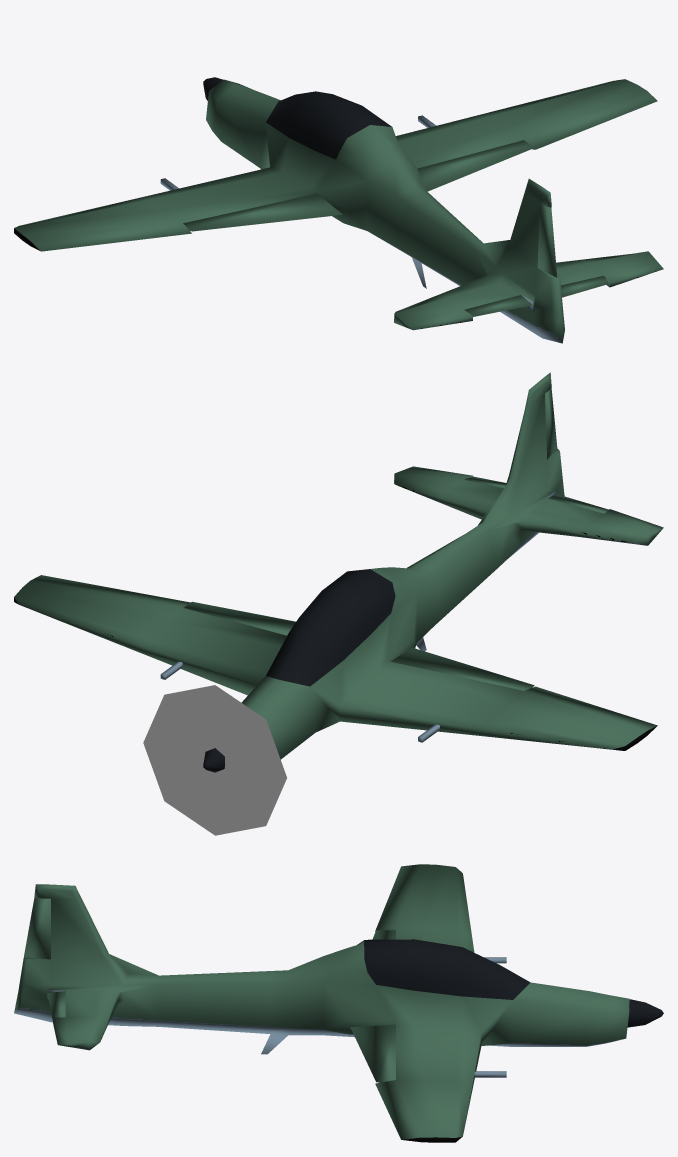
3 renders of one model, top to bottom at view 1: azimuth 30°, elevation 25°; view 2: azimuth 150°, elevation 25°; view 3: azimuth 270°, elevation 25°, orthographic. The views are drawn at different scales.
Parts seen in each view (by area): view 1: Body, FlapL, FlapR, Rudder, ElevatorL, ElevatorR; view 2: Body, Speen2, FlapL, FlapR; view 3: Body, FlapR, Rudder, Speen, ElevatorR.
Part boxes in pixels (x1,y1,x2,y2): Body: (14,79,663,343); FlapL: (183,193,342,231); FlapR: (417,140,534,191); Rudder: (537,202,557,277); ElevatorL: (465,295,532,316); ElevatorR: (561,275,609,297); Body: (14,372,663,759); Speen2: (143,685,286,835); FlapL: (390,647,534,690); FlapR: (184,601,295,635); Body: (14,864,629,1142); FlapR: (350,1024,395,1082); Rudder: (24,897,50,959); Speen: (627,999,663,1027); ElevatorR: (47,991,65,1017).
Size of the model in its own units: 2.37 by 0.8016 by 2.38.
Materials: 1 (1 with a texture image).
